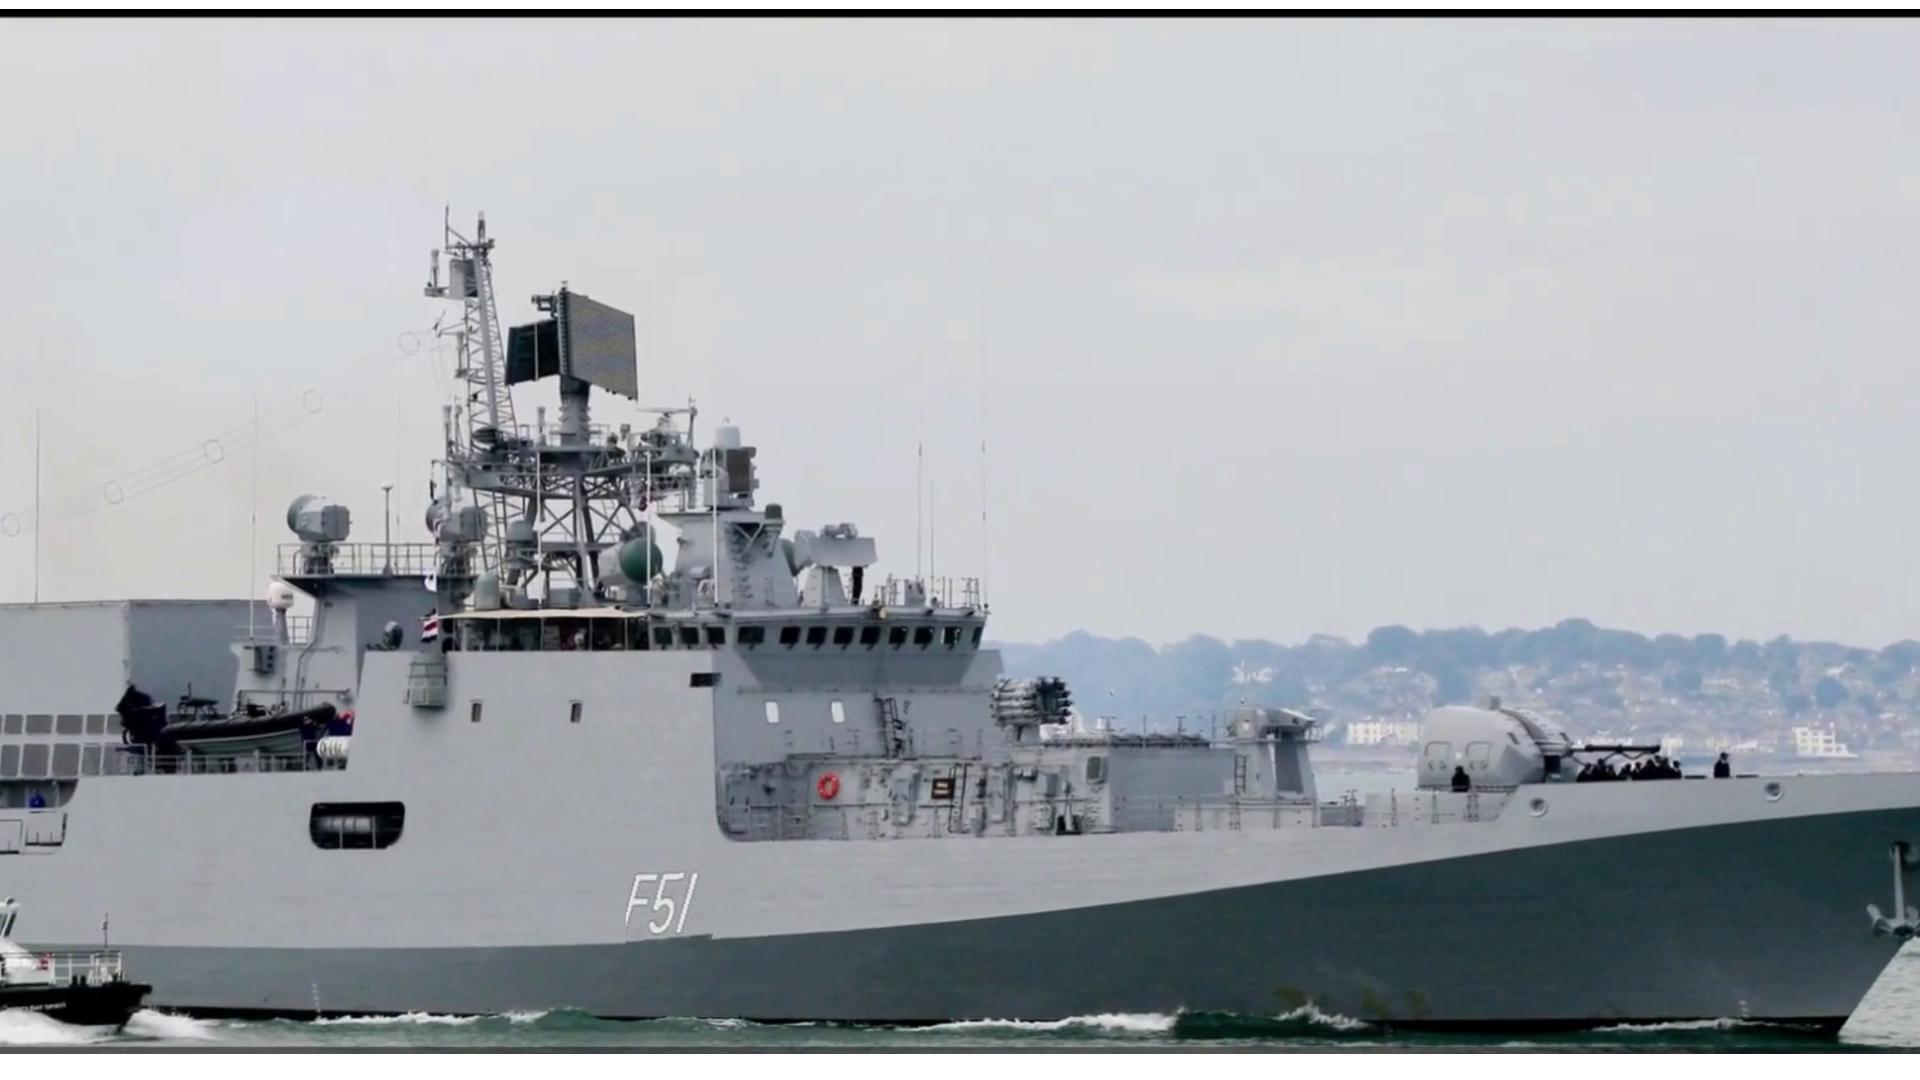OCR: (626, 864, 728, 953)
